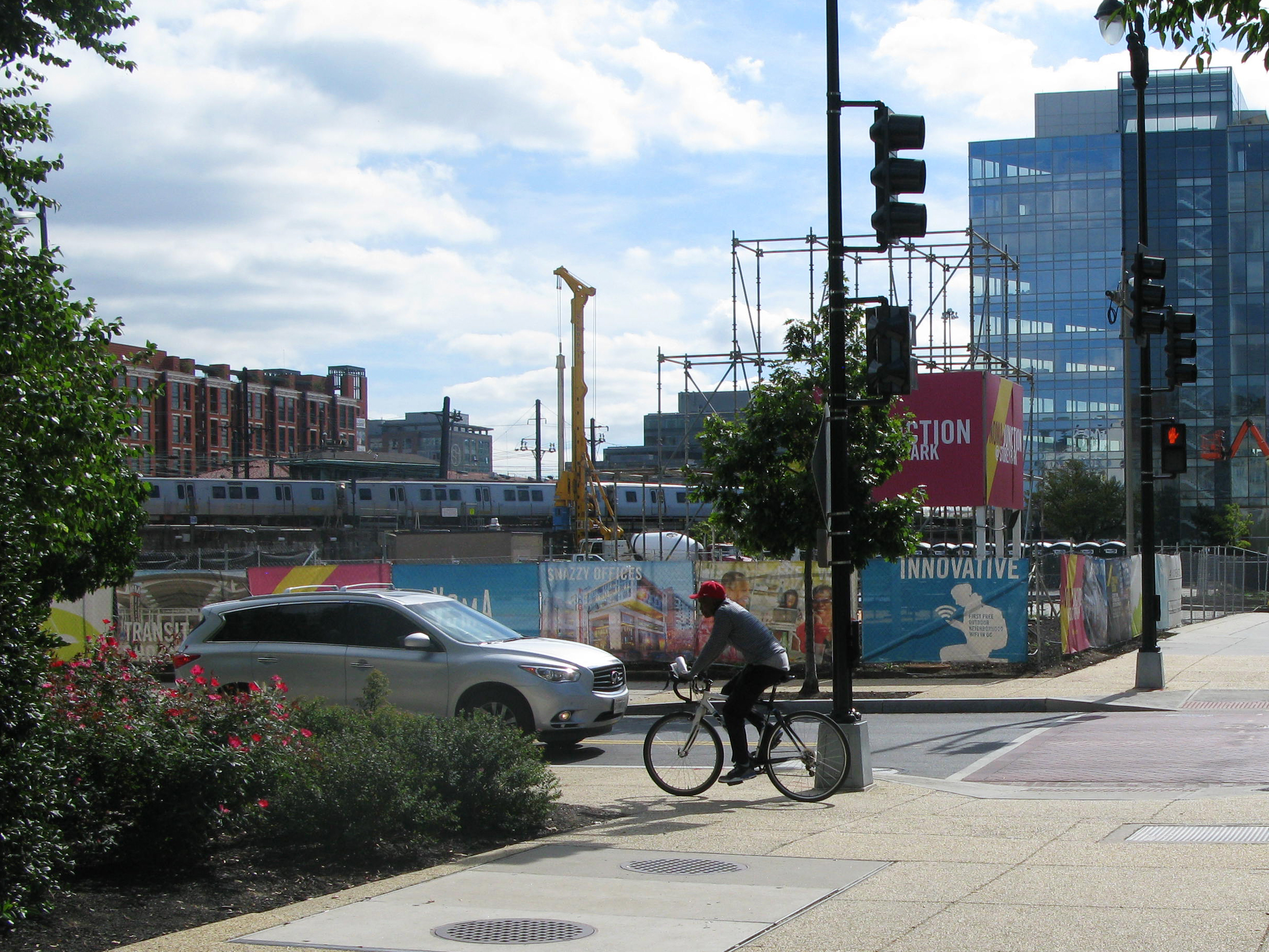Bicycle: (631, 661, 859, 808)
Car: (163, 598, 633, 755)
Person: (677, 580, 789, 776)
TraficLight: (856, 83, 940, 263), (1128, 251, 1184, 353), (1132, 409, 1194, 488), (1164, 296, 1205, 392)
